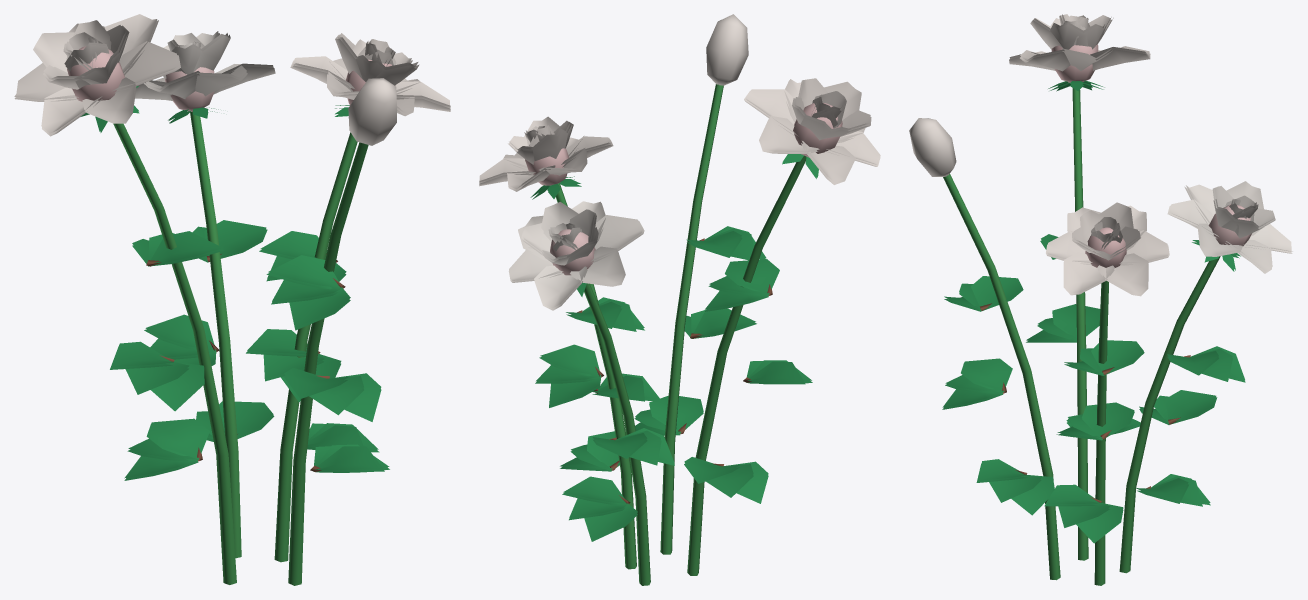
The model's file is ing_rose_white.gltf.
3 renders of one model, left to right at view 1: azimuth 30°, elevation 25°; view 2: azimuth 150°, elevation 25°; view 3: azimuth 270°, elevation 25°, orthographic. The views are drawn at different scales.
Parts seen in each view (by area): view 1: ing_rose_white; view 2: ing_rose_white; view 3: ing_rose_white.
Boxes of the visible parts, x1,y1,x2,y2 form: ing_rose_white: (14,14,450,585); ing_rose_white: (479,14,880,585); ing_rose_white: (909,14,1292,585).
Size of what is drawn, in the model's own units: 0.4729 by 0.6406 by 0.4568.
